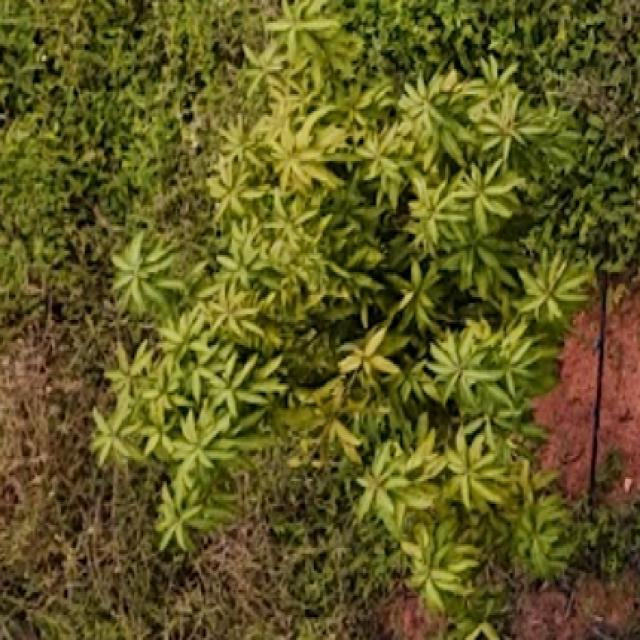mangoTree: (85, 0, 603, 640)
